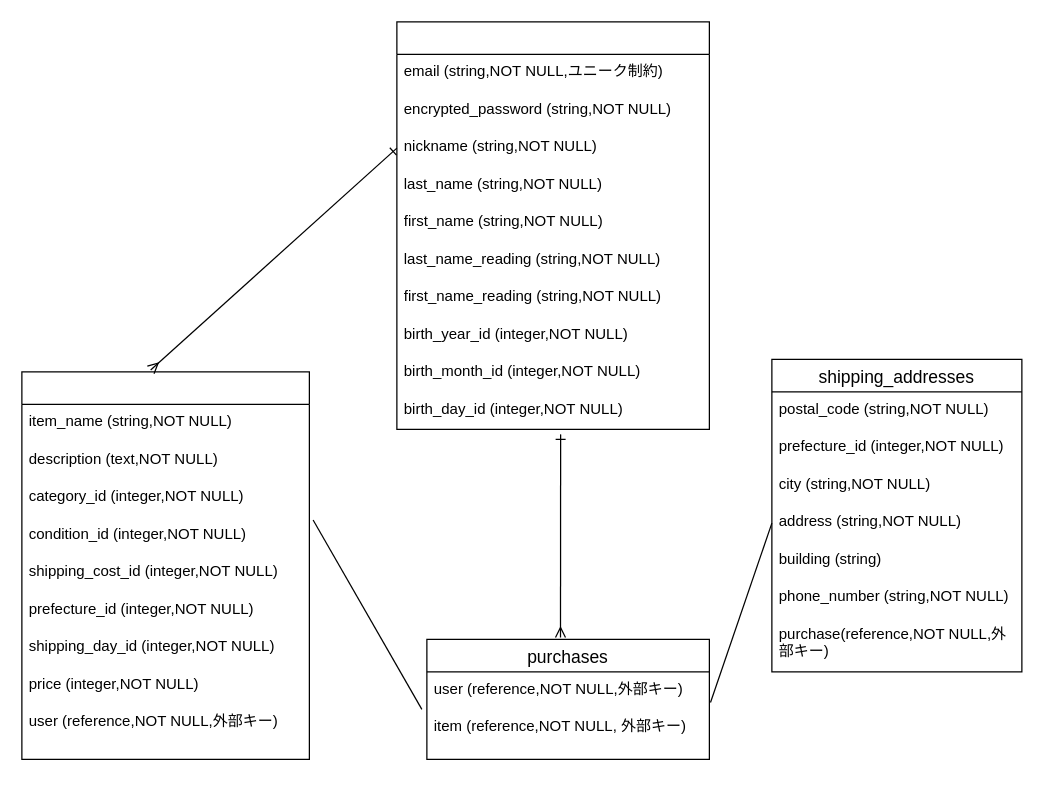
This 1044x785 diagram has some shape labels left out. Each missing label, with the box of its shape:
items: (21, 371, 309, 759)
users: (396, 21, 709, 429)
